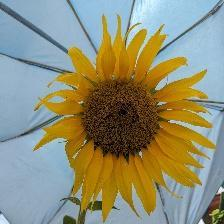sunflower: (33, 11, 217, 222)
